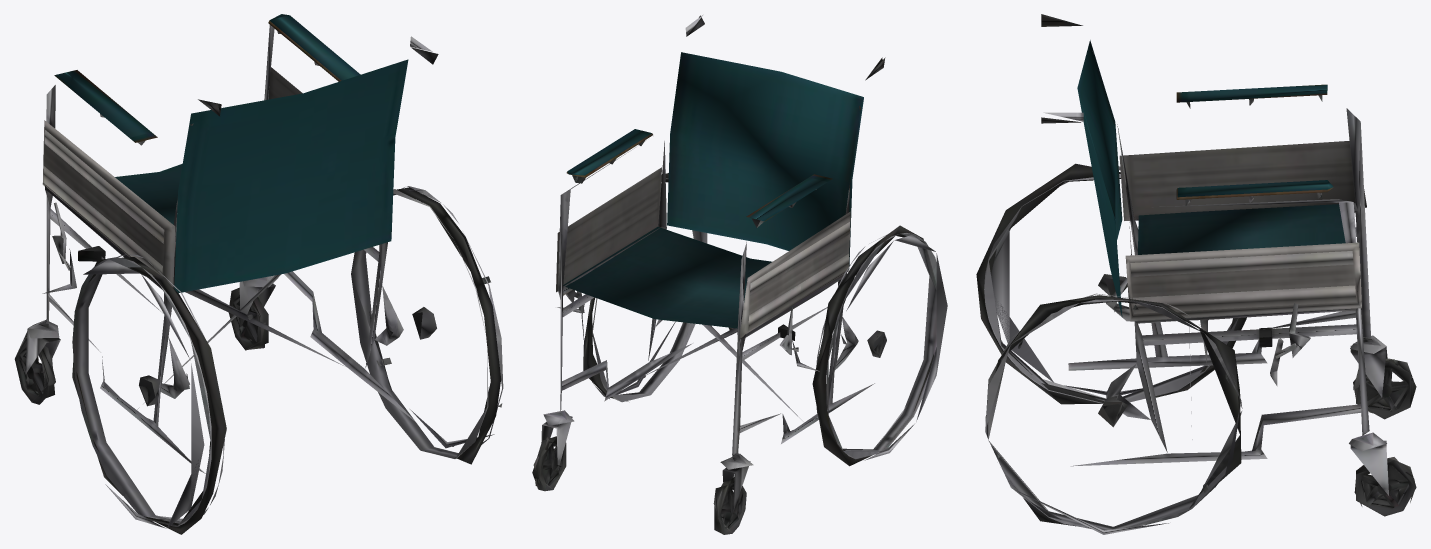
The model's file is wheelchair.glb.
3 views of the same model, side by side, from view 1: azimuth 30°, elevation 25°; view 2: azimuth 150°, elevation 25°; view 3: azimuth 270°, elevation 25° (orthographic). The views are drawn at different scales.
Parts seen in each view (by area): view 1: wheelchair; view 2: wheelchair; view 3: wheelchair.
Boxes of the visible parts, box(x1,y1,x2,y2) form: wheelchair: box(14, 14, 503, 534); wheelchair: box(532, 14, 947, 534); wheelchair: box(976, 14, 1416, 534).
Bounding box in the file's own units: 0.8237 × 1.08 × 1.06.
1 material, 1 textured.
